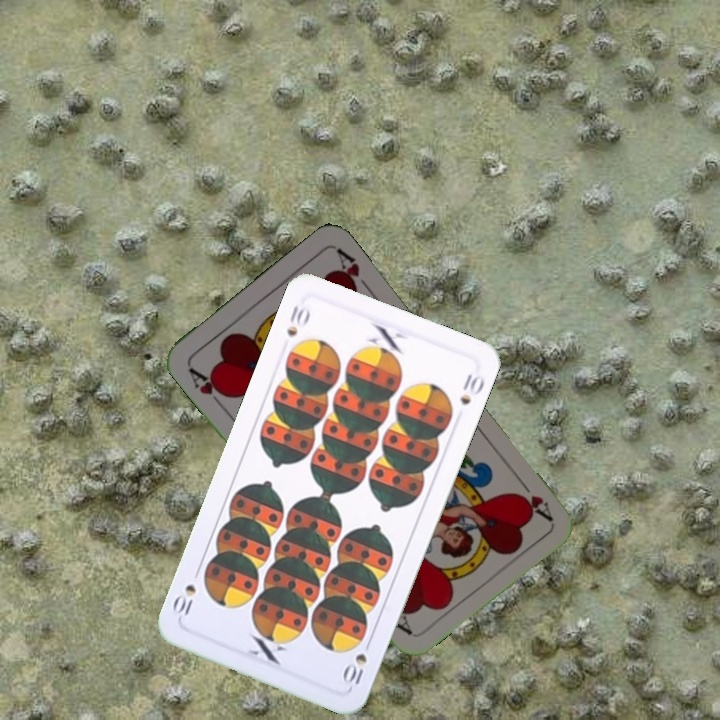HA: (184, 363, 233, 411), (510, 472, 555, 523)
S10: (339, 634, 375, 688), (283, 301, 313, 339)
